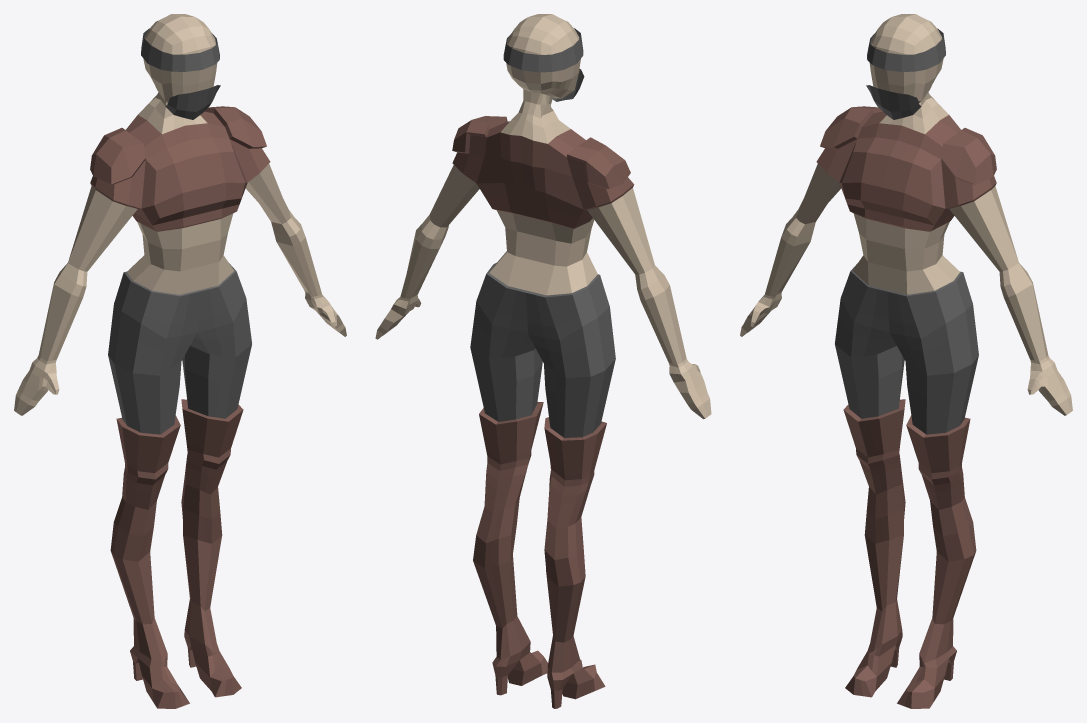
File: character_female.fbx
3 renders of one model, left to right at view 1: azimuth 30°, elevation 25°; view 2: azimuth 150°, elevation 25°; view 3: azimuth 330°, elevation 25°, orthographic.
Visible parts, largest first — view 1: Cube, Plane; view 2: Cube; view 3: Cube, Plane.
Part boxes in pixels (x1,y1,x2,y2): Cube: [14, 14, 346, 708]; Plane: [165, 85, 220, 119]; Cube: [375, 14, 711, 708]; Cube: [740, 14, 1072, 708]; Plane: [866, 85, 921, 119].
Size of the model in its own units: 274 by 533 by 69.23.
